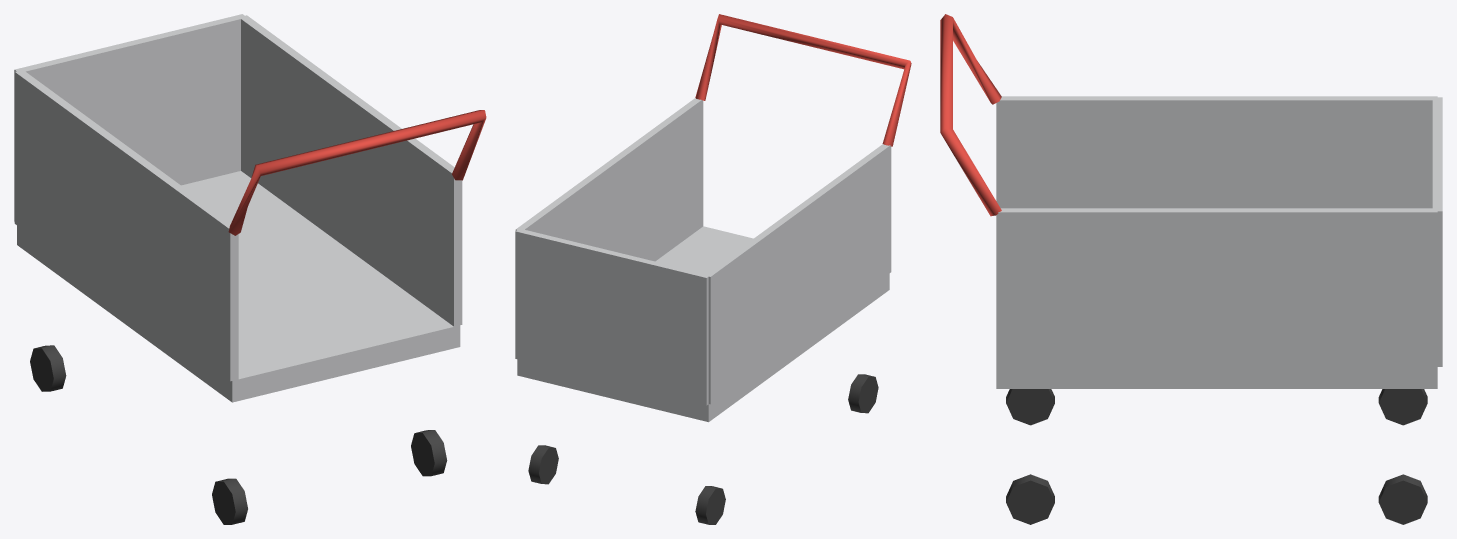
Rendered from shopping_cart.glb.
The picture shows the model from 3 angles, left to right: view 1: azimuth 30°, elevation 25°; view 2: azimuth 150°, elevation 25°; view 3: azimuth 270°, elevation 25°; orthographic projection. The views are drawn at different scales.
Visible parts, largest first — view 1: shopping_cart; view 2: shopping_cart; view 3: shopping_cart.
Boxes of the visible parts, x1=… form: shopping_cart: x1=14, y1=14, x2=486, y2=524; shopping_cart: x1=515, y1=14, x2=911, y2=524; shopping_cart: x1=940, y1=14, x2=1442, y2=524.
Bounding box in the file's own units: 0.568 × 0.9027 × 1.02.
